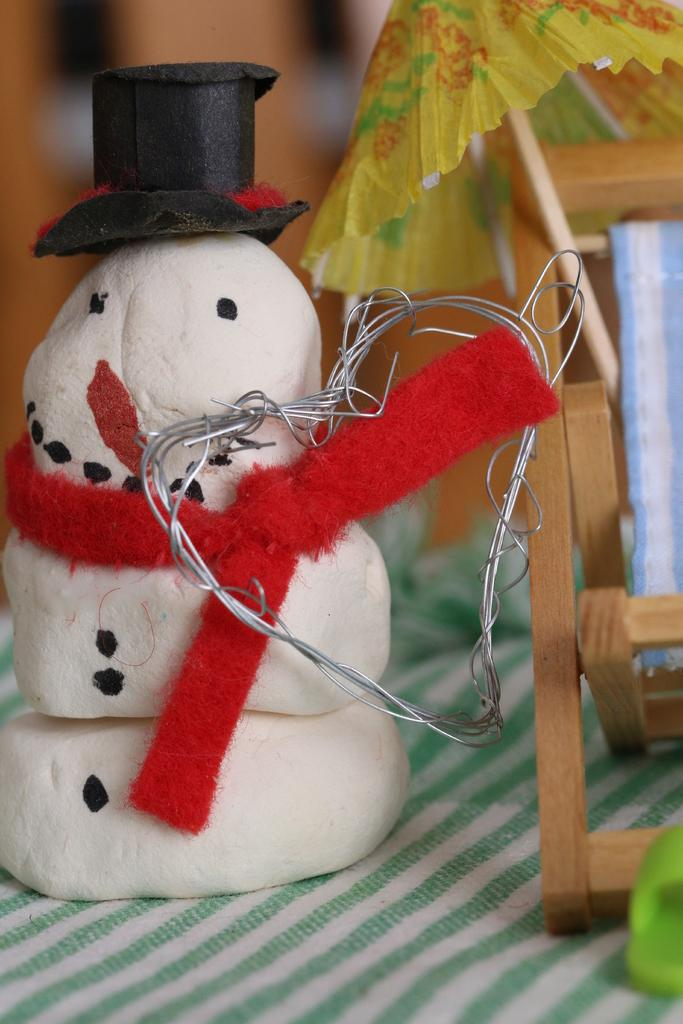Hat: (34, 64, 311, 254)
